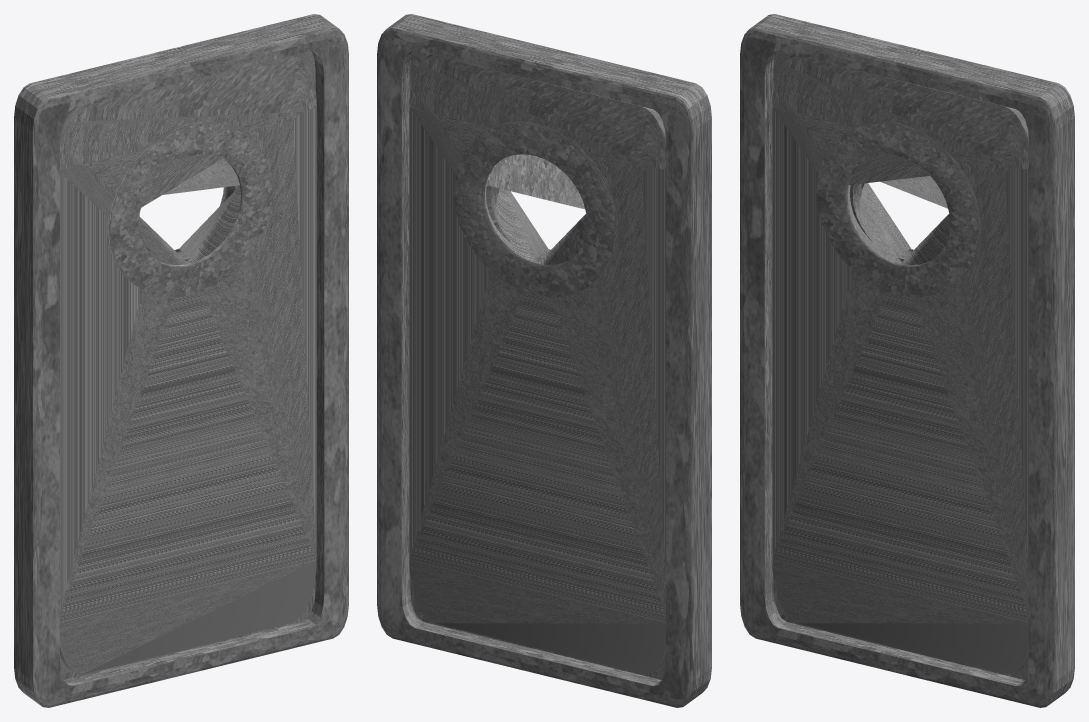
The model's file is Spacedoor-fractured.fbx.
The picture shows the model from 3 angles, left to right: view 1: azimuth 30°, elevation 25°; view 2: azimuth 150°, elevation 25°; view 3: azimuth 330°, elevation 25°; orthographic projection.
Visible parts, largest first — view 1: Cube.010, Cube.001, Cube.003, Cube.005, Cube.002, Cube.009; view 2: Cube.008, Cube.001, Cube.004, Cube.005, Cube.002, Cube.003, Cube.009; view 3: Cube.010, Cube.001, Cube.003, Cube.005, Cube.002, Cube.009.
Boxes of the visible parts, left/top/right/bottom form: Cube.010: left=60, top=107, right=316, bottom=622; Cube.001: left=14, top=14, right=348, bottom=707; Cube.003: left=60, top=54, right=316, bottom=207; Cube.005: left=60, top=560, right=316, bottom=679; Cube.002: left=107, top=121, right=272, bottom=297; Cube.009: left=139, top=185, right=241, bottom=264; Cube.008: left=409, top=107, right=665, bottom=622; Cube.001: left=377, top=14, right=711, bottom=707; Cube.004: left=409, top=51, right=665, bottom=190; Cube.005: left=409, top=560, right=665, bottom=679; Cube.002: left=453, top=121, right=618, bottom=297; Cube.003: left=435, top=56, right=642, bottom=209; Cube.009: left=484, top=185, right=586, bottom=264; Cube.010: left=772, top=107, right=1028, bottom=622; Cube.001: left=740, top=14, right=1074, bottom=707; Cube.003: left=772, top=54, right=1028, bottom=208; Cube.005: left=772, top=560, right=1028, bottom=679; Cube.002: left=816, top=121, right=981, bottom=297; Cube.009: left=847, top=183, right=949, bottom=264.
Size of the model in its own units: 115 by 213 by 13.37.
